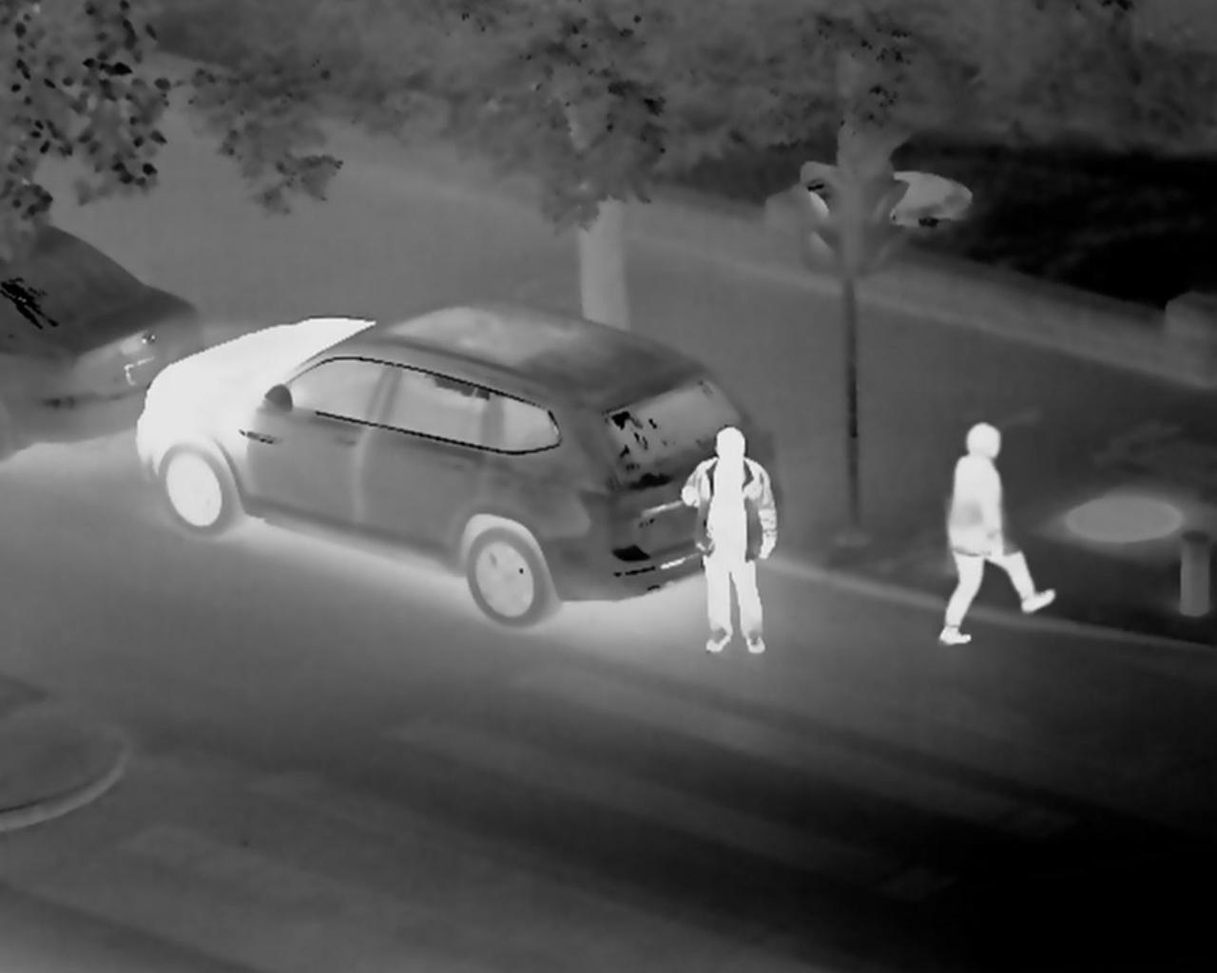person: (930, 436, 1047, 654), (675, 421, 782, 657)
